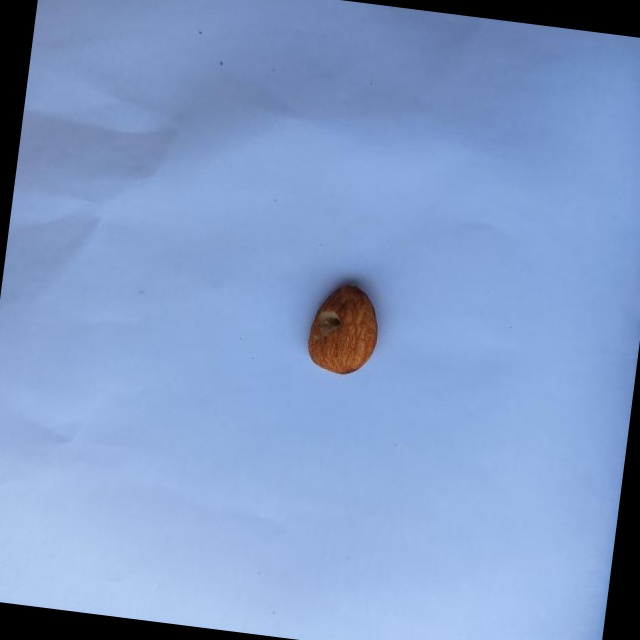grade3: (299, 275, 386, 382)
